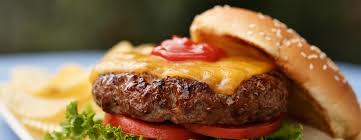hamburger: (84, 15, 314, 140)
